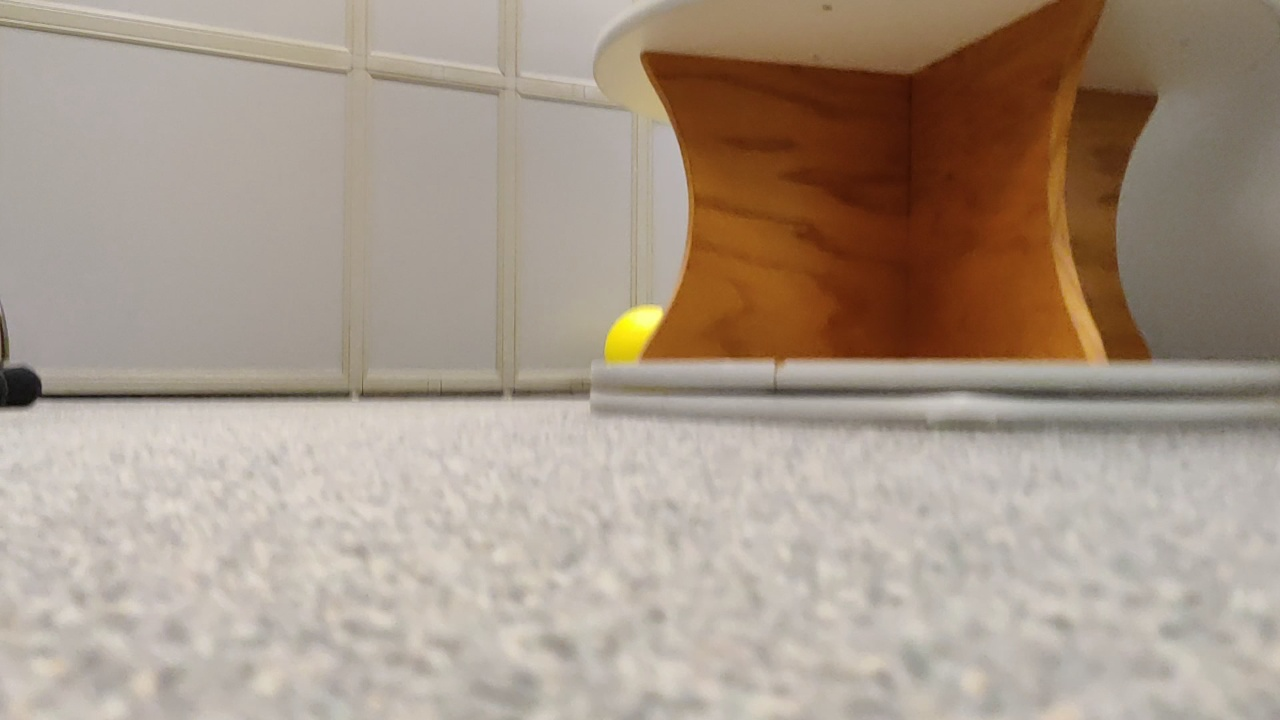Ball: (609, 300, 657, 359)
